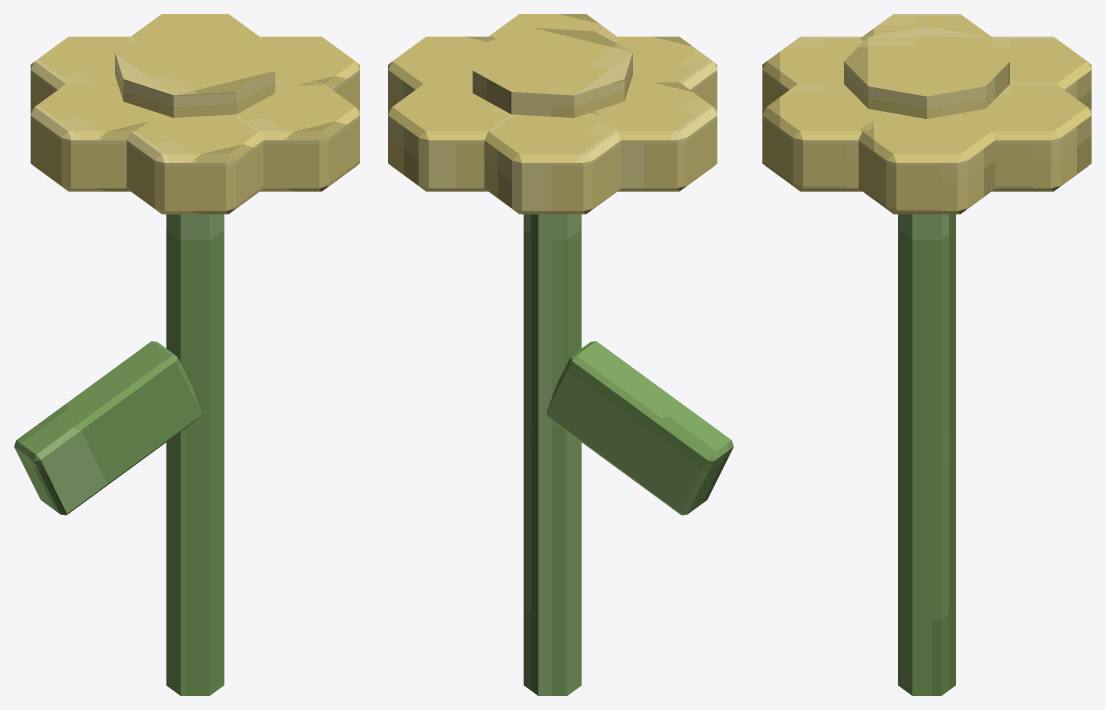
File: flower_sun.glb
The picture shows the model from 3 angles, left to right: view 1: azimuth 30°, elevation 25°; view 2: azimuth 150°, elevation 25°; view 3: azimuth 270°, elevation 25°; orthographic projection.
Visible parts, largest first — view 1: Stem, LeafL, Petal_4, FlowerCenter, Petal_3, Petal_5, Petal_0, Petal_2, Petal_1; view 2: Stem, LeafL, Petal_2, FlowerCenter, Petal_3, Petal_1, Petal_0, Petal_4, Petal_5; view 3: Stem, Petal_0, FlowerCenter, Petal_1, Petal_5, Petal_4, Petal_2, Petal_3.
Boxes of the visible parts, x1,y1,x2,y2 form: Stem: [166, 214, 224, 695]; LeafL: [14, 341, 201, 515]; Petal_4: [126, 112, 263, 214]; FlowerCenter: [115, 27, 275, 117]; Petal_3: [30, 82, 159, 191]; Petal_5: [233, 82, 359, 191]; Petal_0: [252, 36, 359, 109]; Petal_2: [30, 36, 133, 109]; Petal_1: [128, 14, 258, 41]; Stem: [523, 214, 581, 695]; LeafL: [546, 341, 733, 515]; Petal_2: [484, 111, 621, 214]; FlowerCenter: [472, 27, 632, 117]; Petal_3: [589, 82, 717, 191]; Petal_1: [388, 82, 515, 191]; Petal_0: [388, 36, 495, 109]; Petal_4: [610, 36, 717, 109]; Petal_5: [489, 14, 619, 41]; Stem: [898, 214, 955, 695]; Petal_0: [858, 111, 995, 214]; FlowerCenter: [844, 26, 1009, 118]; Petal_1: [963, 82, 1091, 191]; Petal_5: [762, 82, 891, 191]; Petal_4: [762, 36, 865, 109]; Petal_2: [986, 36, 1091, 109]; Petal_3: [860, 14, 993, 40].
Bounding box in the file's own units: 0.4462 × 0.83 × 0.3972.
Materials: 1 (1 with a texture image).
